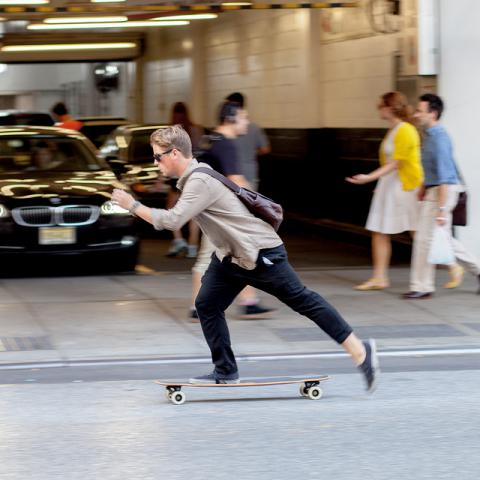car: (0, 122, 144, 279), (98, 123, 171, 203), (0, 108, 55, 127)
